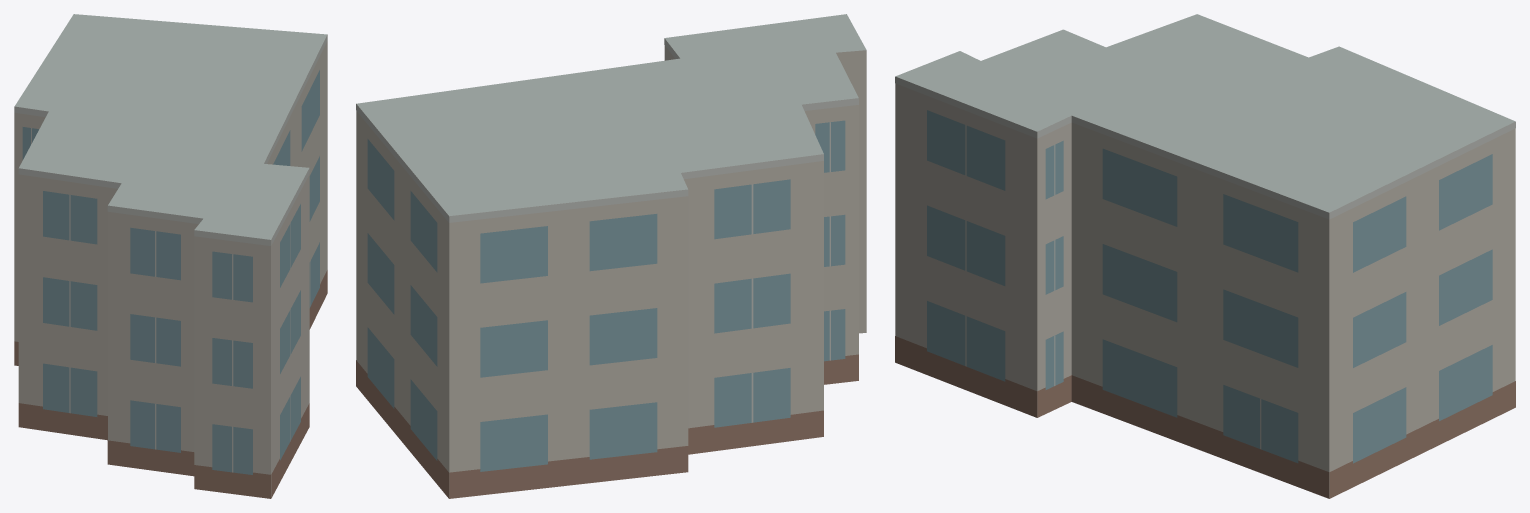
File: survey-upis-32759850.glb
The picture shows the model from 3 angles, left to right: view 1: azimuth 30°, elevation 25°; view 2: azimuth 150°, elevation 25°; view 3: azimuth 270°, elevation 25°; orthographic projection. The views are drawn at different scales.
Parts seen in each view (by area): view 1: survey-upis-32759850.tmp; view 2: survey-upis-32759850.tmp; view 3: survey-upis-32759850.tmp.
Part boxes in pixels (x1,y1,x2,y2): survey-upis-32759850.tmp: (14, 14, 327, 498); survey-upis-32759850.tmp: (356, 14, 866, 498); survey-upis-32759850.tmp: (895, 14, 1515, 498).
Size of the model in its own units: 15.2 by 10.2 by 20.06.
